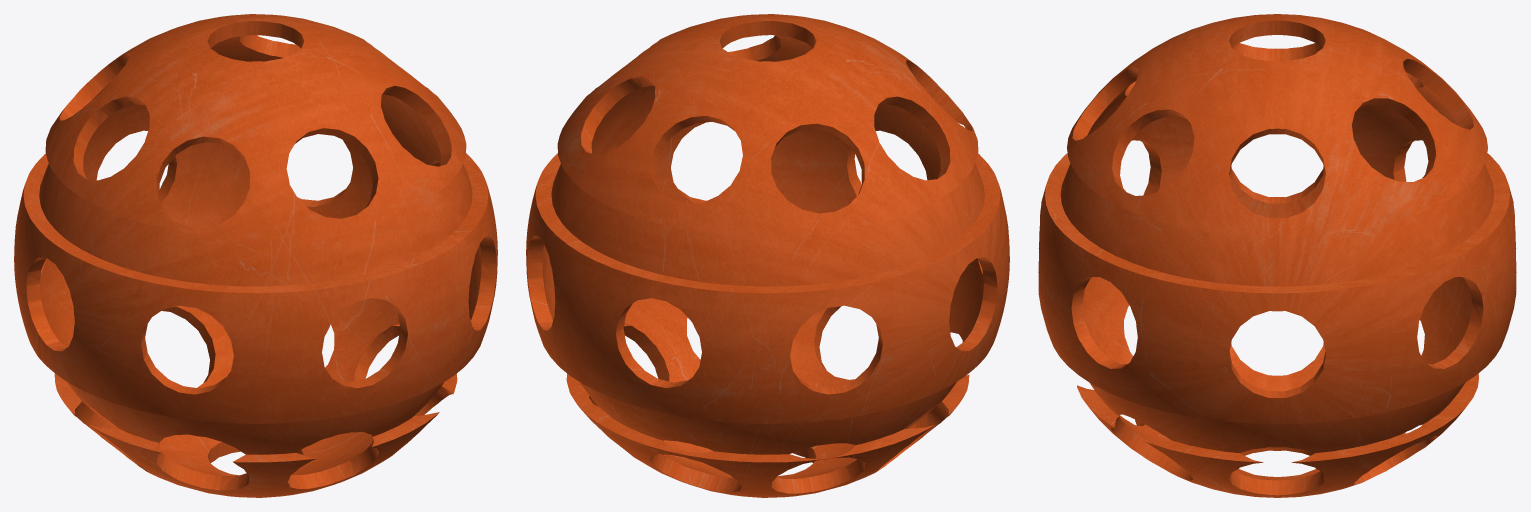
File: WhiffleOrb.fbx
3 renders of one model, left to right at view 1: azimuth 30°, elevation 25°; view 2: azimuth 150°, elevation 25°; view 3: azimuth 270°, elevation 25°, orthographic.
Visible parts, largest first — view 1: Sphere001; view 2: Sphere001; view 3: Sphere001.
Boxes of the visible parts, x1=… form: Sphere001: x1=14, y1=14, x2=497, y2=497; Sphere001: x1=526, y1=14, x2=1009, y2=497; Sphere001: x1=1038, y1=14, x2=1516, y2=497.
Bounding box in the file's own units: 38.65 × 38.59 × 38.85.
Materials: 1 (1 with a texture image).
